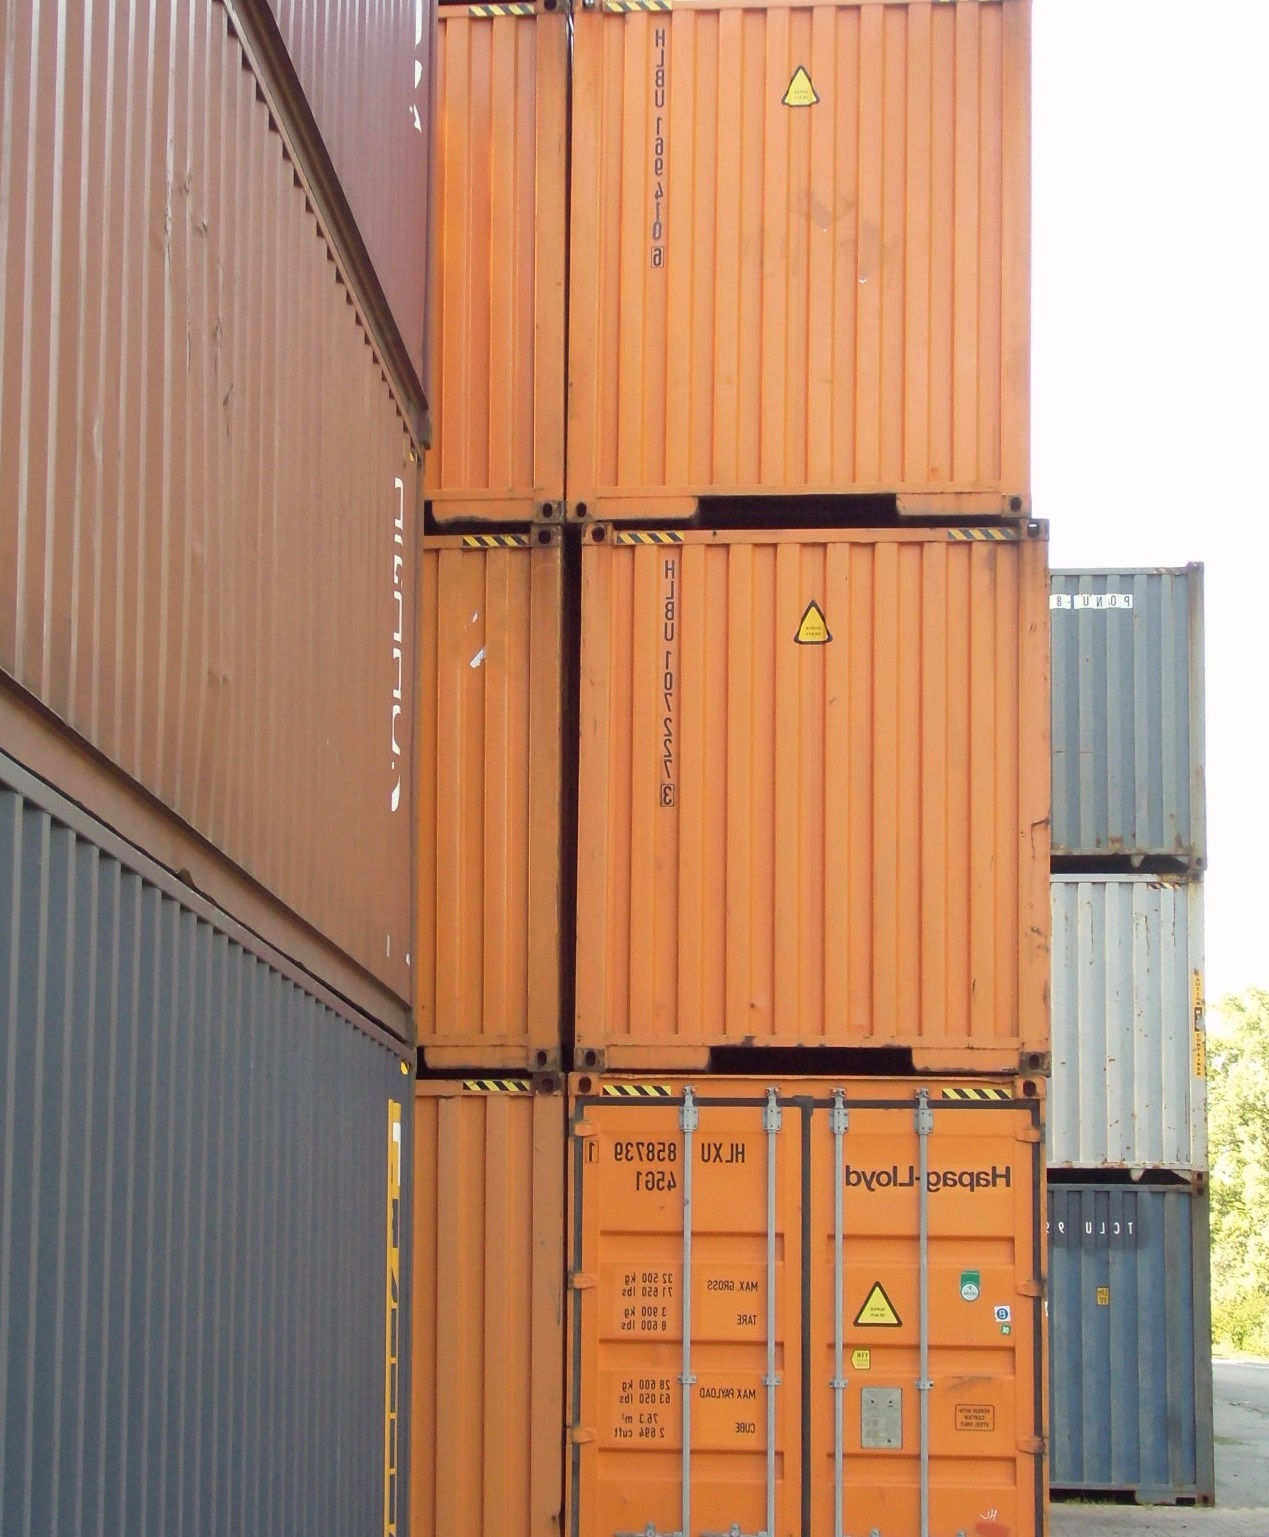container_door: (571, 1074, 1040, 1534)
container_no_door: (577, 526, 1046, 1074), (571, 1, 1030, 518), (1046, 1185, 1210, 1503), (1049, 874, 1205, 1181), (1049, 569, 1205, 874)
